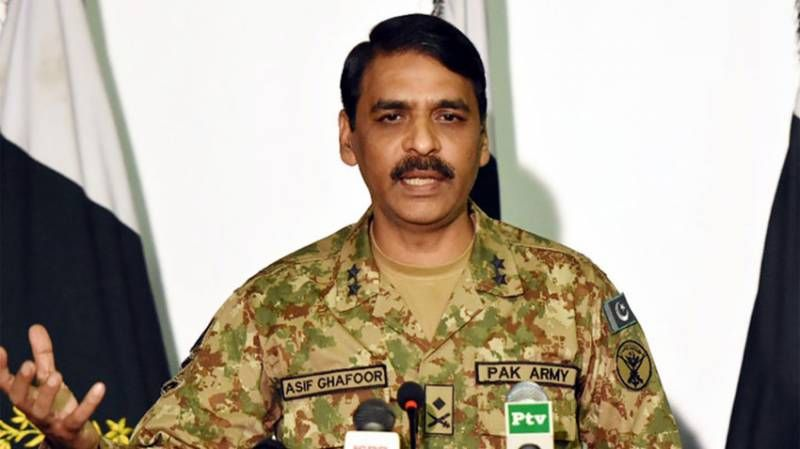uniform: (127, 207, 710, 444)
